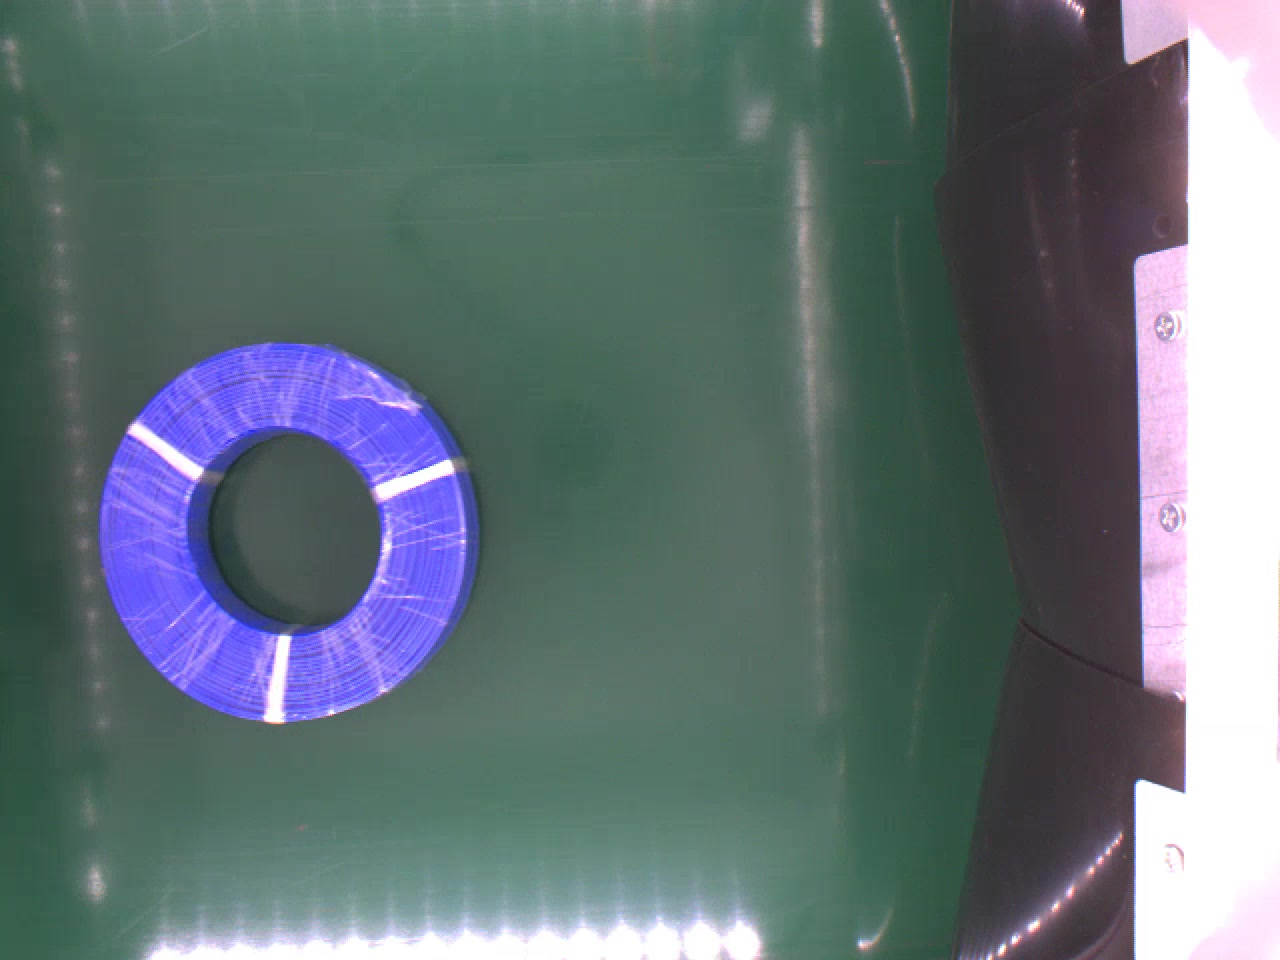blue: (97, 340, 480, 733)
